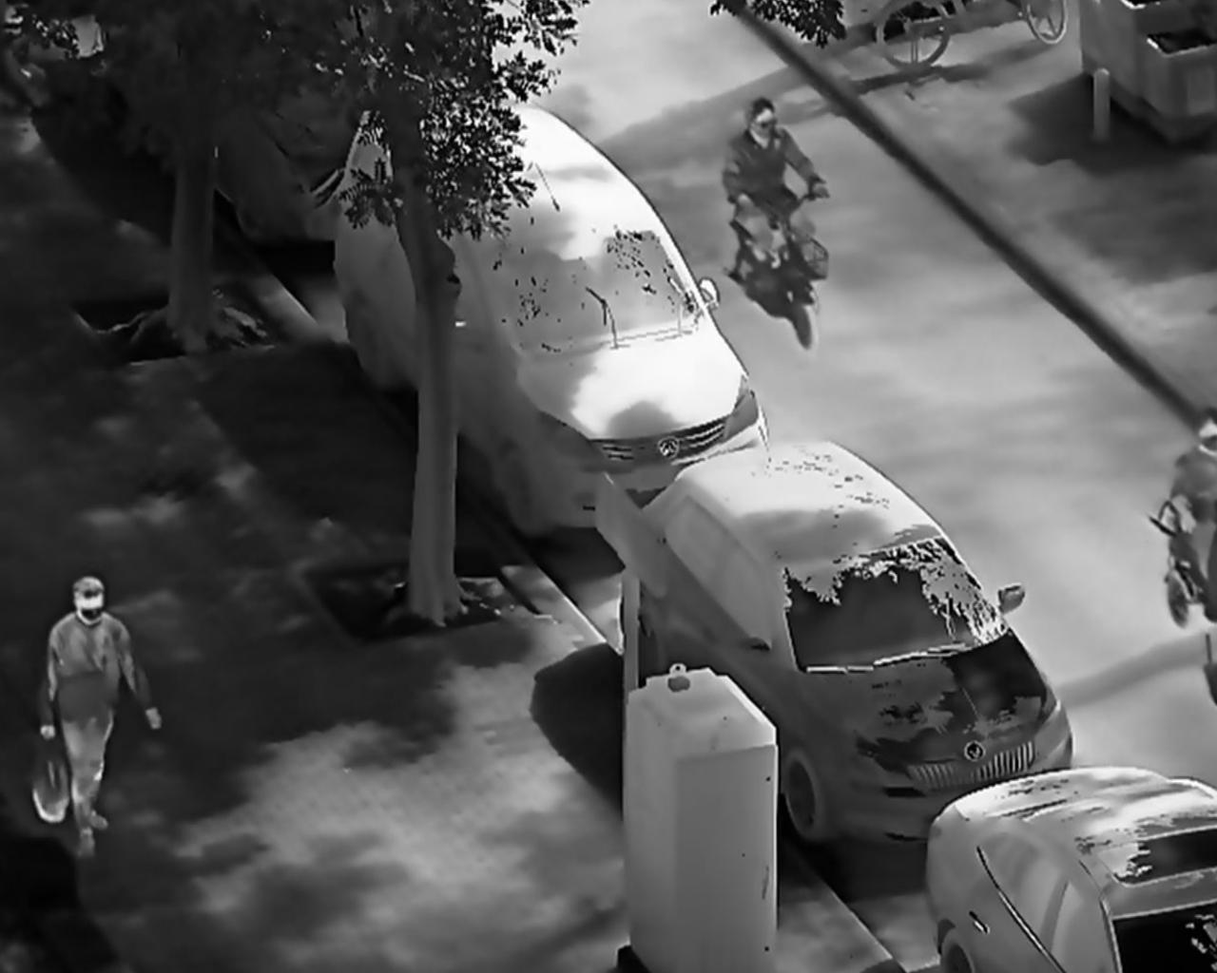person: (37, 571, 164, 861), (719, 92, 833, 296), (1167, 399, 1217, 617)
